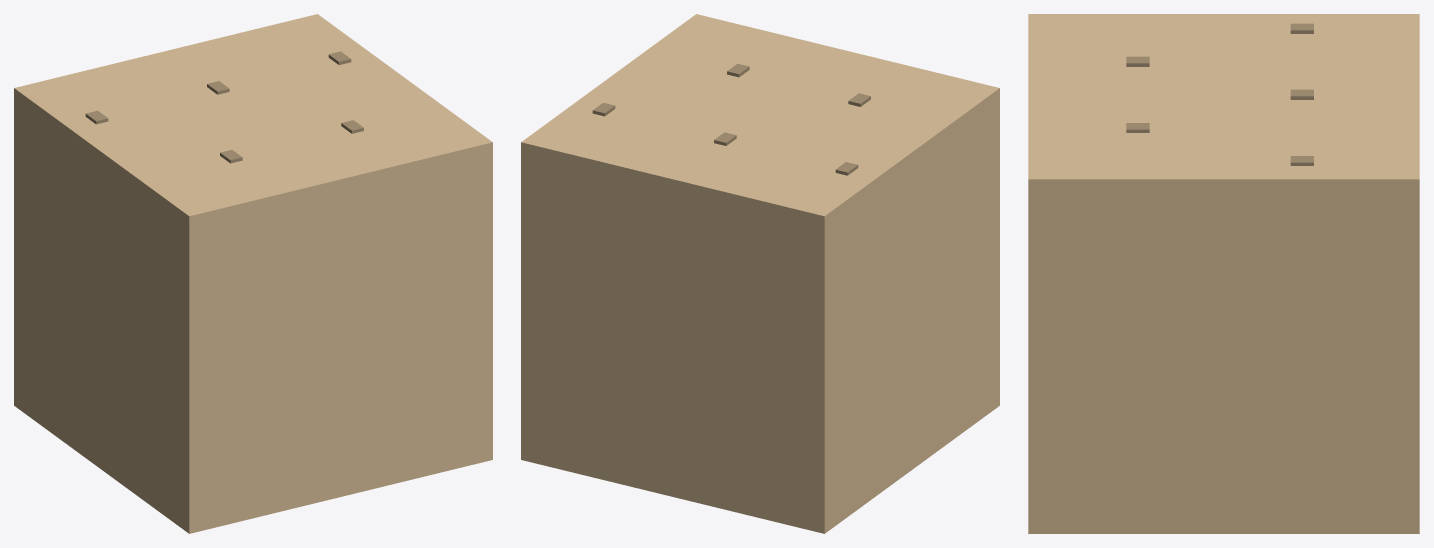
The model's file is 18_planks.glb.
The picture shows the model from 3 angles, left to right: view 1: azimuth 30°, elevation 25°; view 2: azimuth 150°, elevation 25°; view 3: azimuth 270°, elevation 25°; orthographic projection. The views are drawn at different scales.
Visible parts, largest first — view 1: Core; view 2: Core; view 3: Core.
Part boxes in pixels (x1,y1,x2,y2): Core: (14,14,492,533); Core: (521,14,999,533); Core: (1028,14,1419,533).
Size of the model in its own units: 1 by 1.02 by 1.
